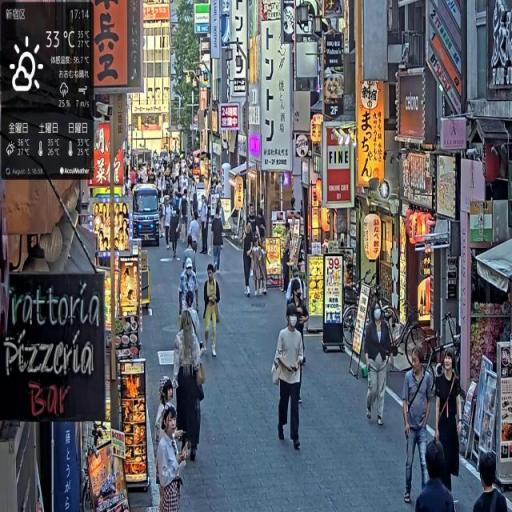person: (402, 347, 436, 512), (175, 308, 207, 467), (273, 306, 306, 452), (435, 348, 464, 487), (365, 303, 396, 429), (157, 403, 189, 512), (415, 438, 458, 512), (472, 450, 509, 512), (202, 264, 223, 359), (211, 209, 226, 273), (243, 223, 255, 297), (170, 203, 182, 262), (201, 196, 212, 255), (180, 192, 190, 240)
